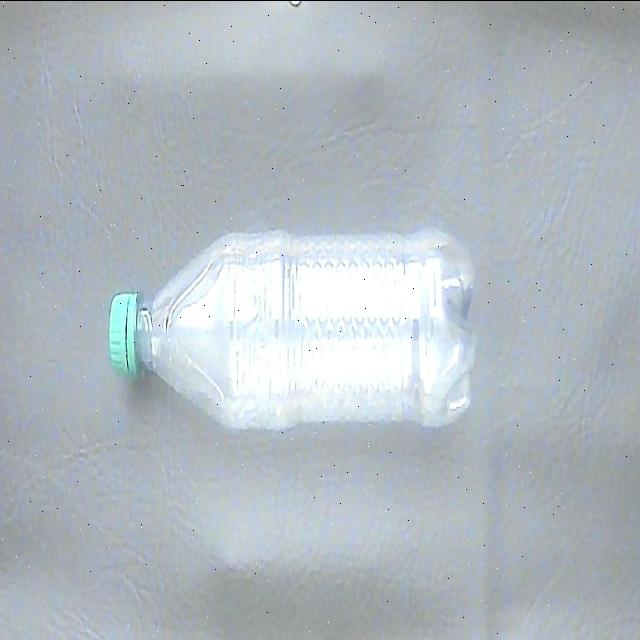plastic: (106, 218, 478, 438)
